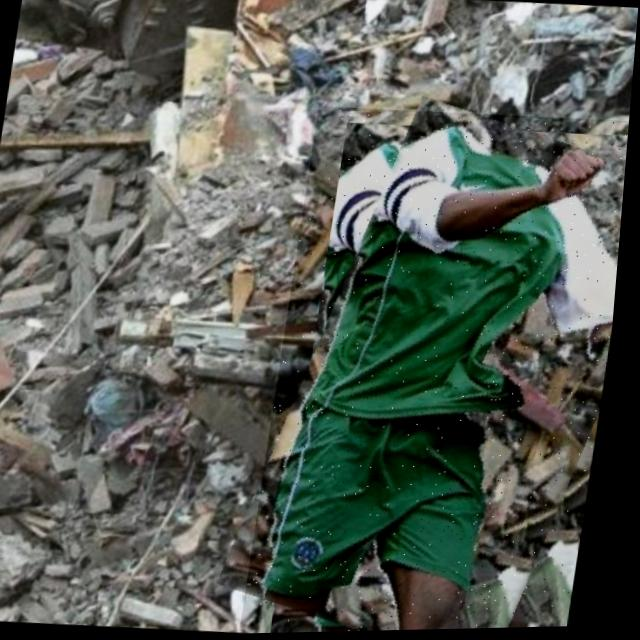Person in Rubble: (249, 102, 633, 635)
